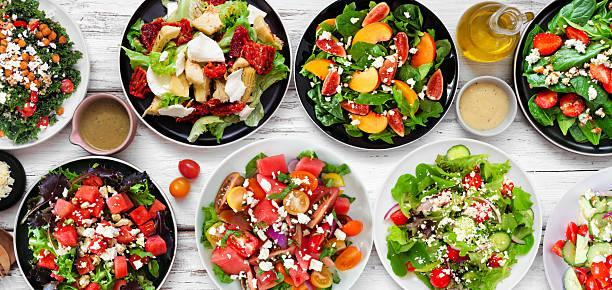Braised Crucian Carp: (196, 137, 365, 289), (373, 137, 541, 287), (291, 1, 450, 152), (120, 2, 283, 148), (14, 156, 175, 288)
